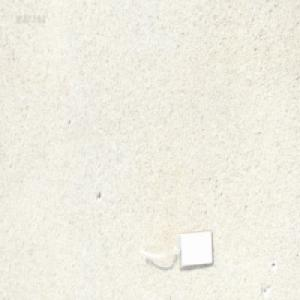LuggageTag: (135, 228, 212, 270)
